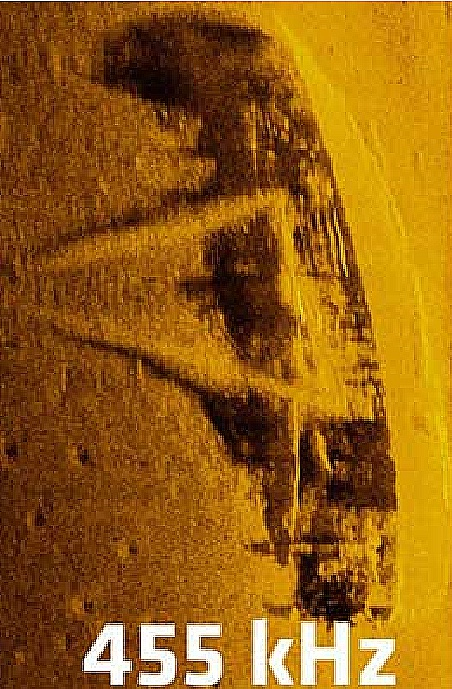ship: (18, 31, 400, 623)
